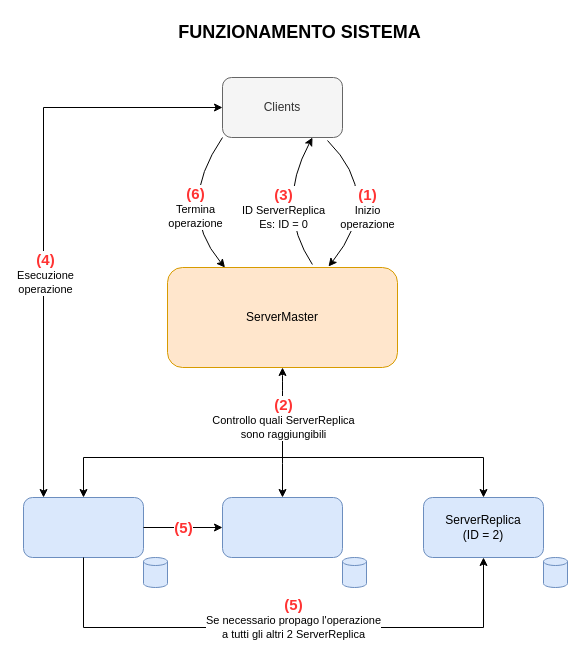
The diagram is 586 pixels wide and 657 high, and some of its shapes have lost their labels. The shapes that lost their labels are listed below. From the top down, each one's centre as x and y in pixels, then its label:
the point at 83,527: ServerReplica (ID = 0)
the point at 282,527: ServerReplica (ID = 1)
